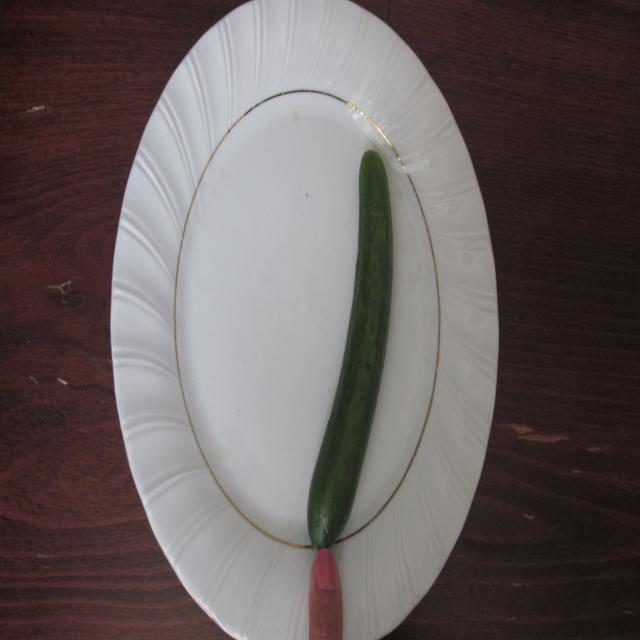Cucumber: (304, 147, 402, 547)
Finger: (302, 548, 349, 640)
